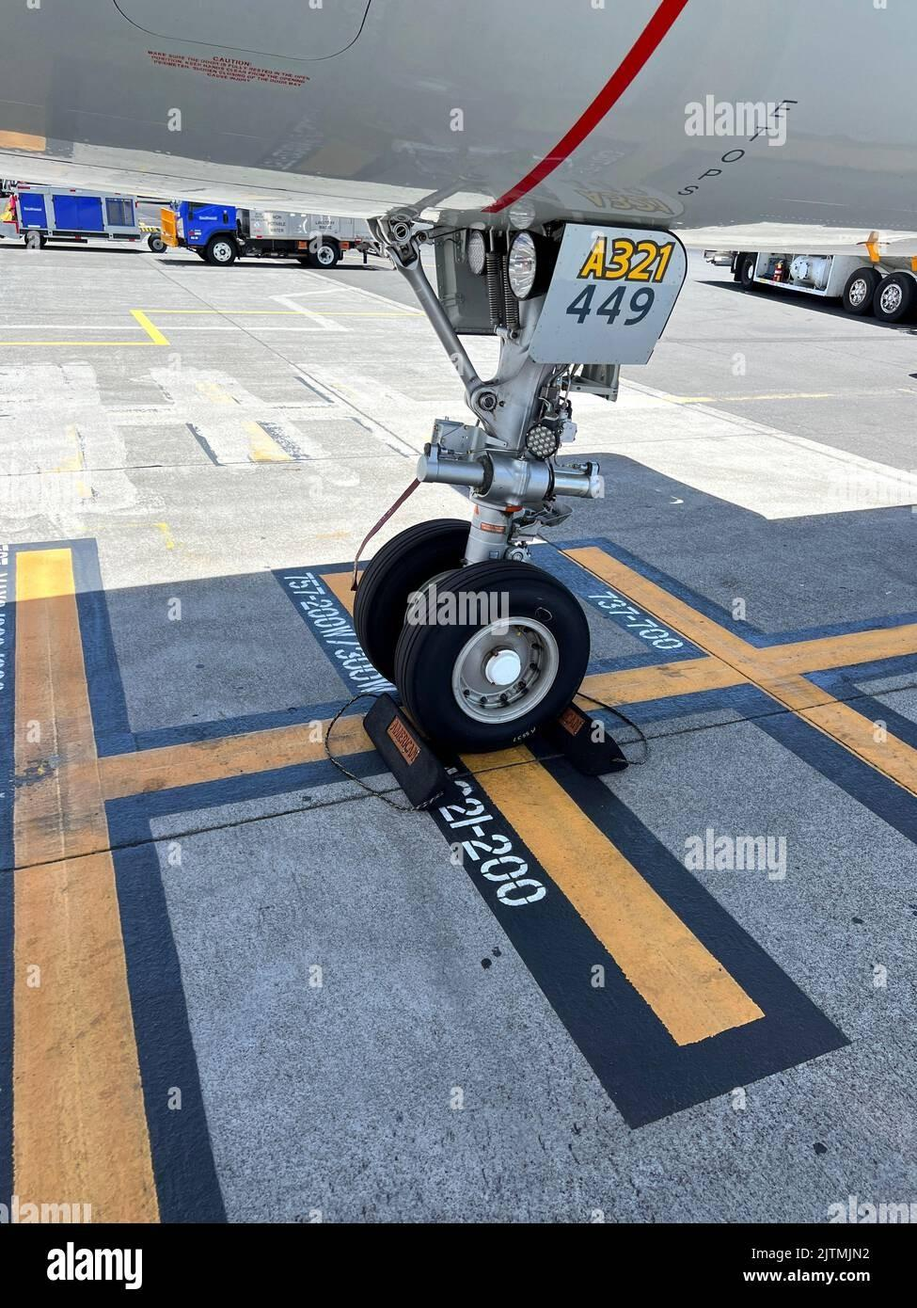boots: (350, 691, 463, 813), (536, 689, 632, 777)
wheels: (387, 555, 591, 749), (351, 526, 478, 690), (875, 272, 914, 322), (842, 268, 877, 314), (203, 235, 235, 265), (310, 241, 339, 267), (734, 254, 755, 285)
